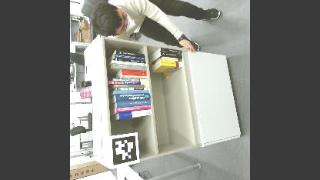book-spine: (118, 108, 152, 118), (115, 92, 151, 101), (112, 62, 147, 71), (116, 98, 151, 107), (116, 104, 151, 112), (115, 49, 145, 57), (112, 59, 146, 66), (114, 53, 146, 60), (160, 59, 183, 67), (117, 57, 146, 63), (160, 51, 183, 58), (109, 80, 148, 84), (122, 70, 147, 76), (114, 89, 149, 93), (114, 77, 148, 81), (160, 47, 182, 53), (121, 74, 148, 78), (122, 68, 147, 72), (117, 86, 149, 89), (163, 56, 182, 60), (114, 84, 149, 86), (163, 58, 182, 61)
